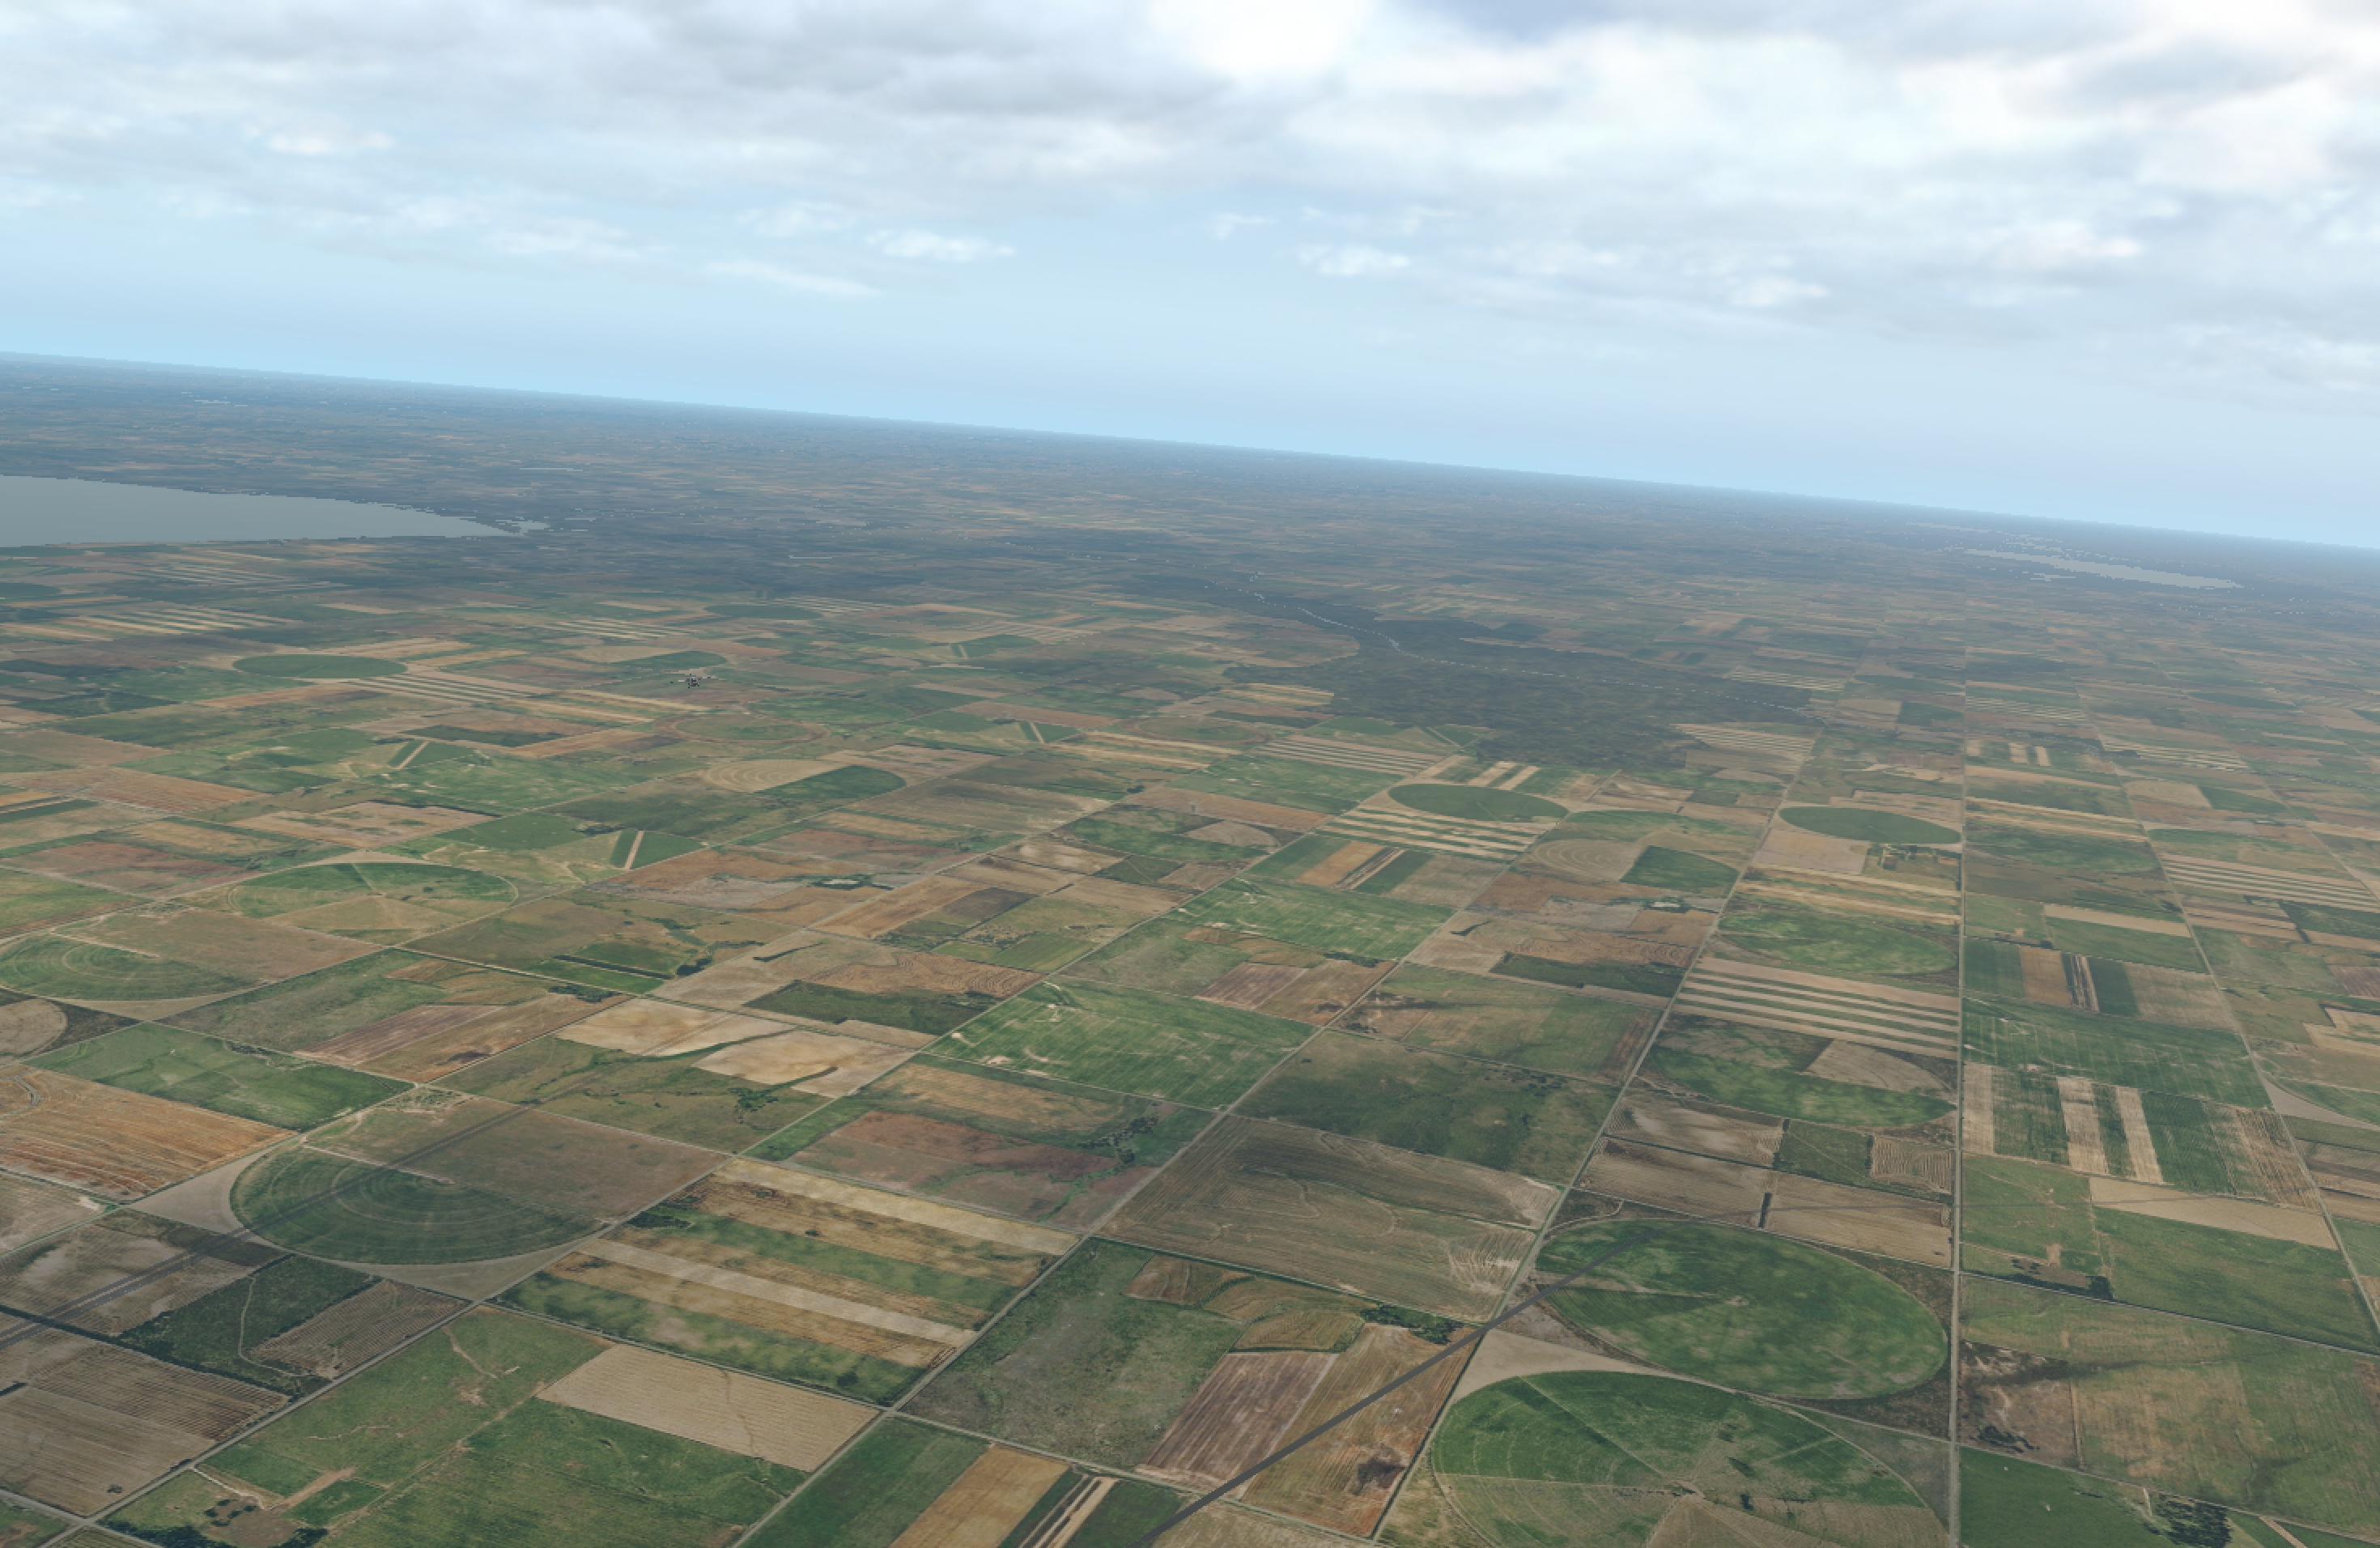aircraft: (678, 677, 709, 687)
